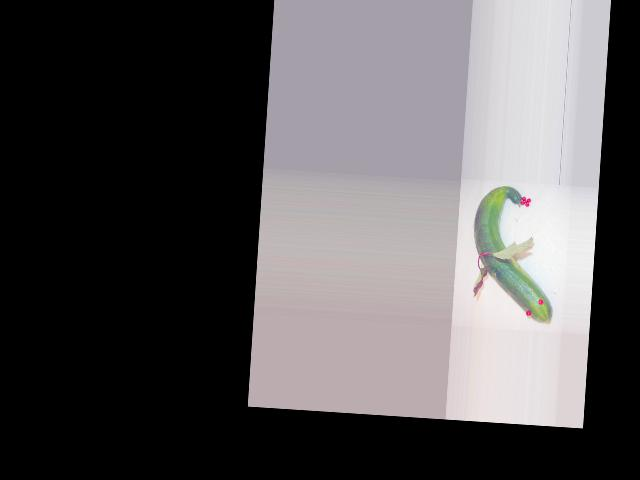cucumber: (468, 184, 560, 322)
